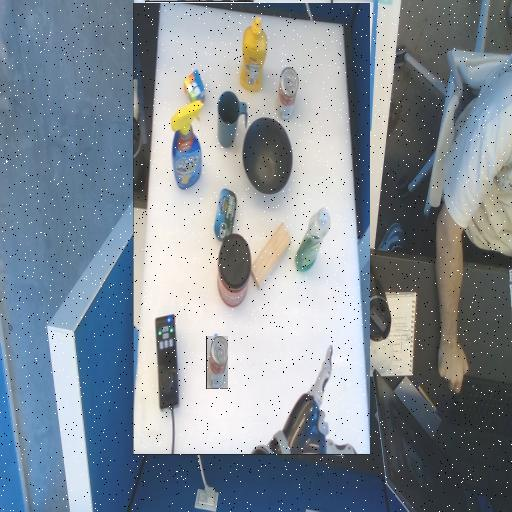bowl: (212, 275, 261, 324)
cleanser: (174, 186, 209, 248)
coffee_can: (253, 169, 286, 201)
jaco: (145, 3, 253, 108)
meat_can: (268, 216, 289, 267)
mug: (257, 322, 286, 350)
mustard_bottle: (238, 389, 263, 413)
rubik: (299, 359, 320, 380)
soup_can: (207, 336, 227, 388)
windex: (302, 268, 333, 355)
wooden_block: (212, 179, 253, 219)
workspace: (134, 3, 370, 454)
